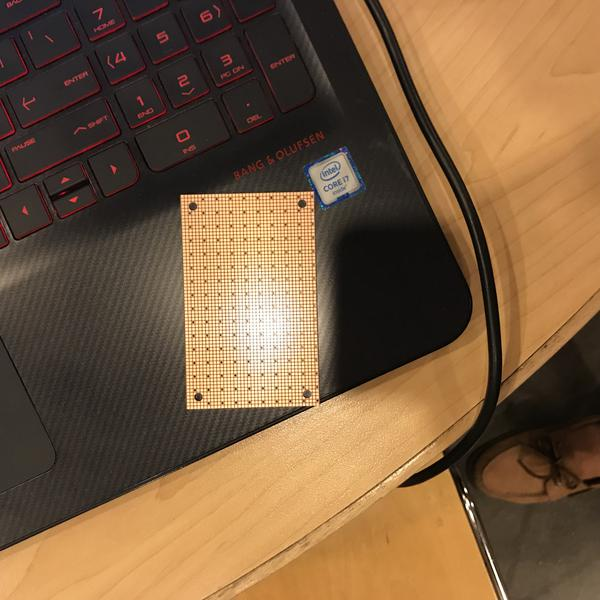board: (177, 190, 322, 411)
